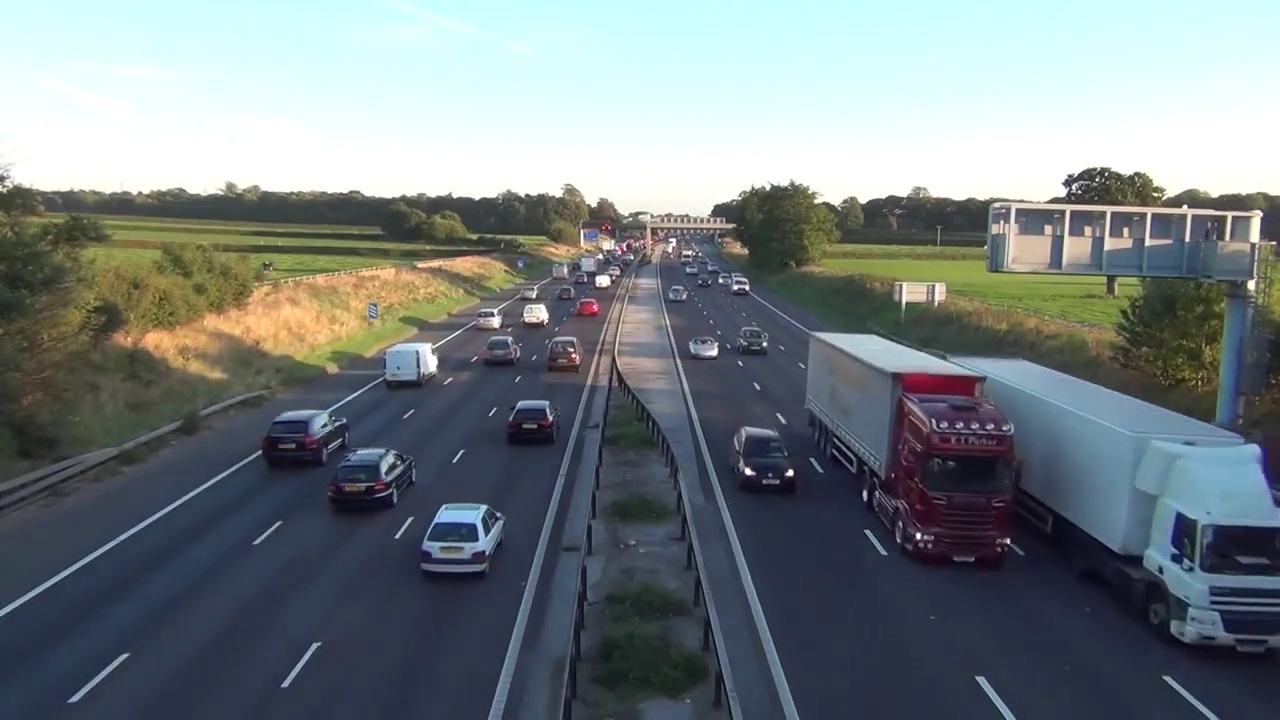bus: (420, 504, 505, 576), (327, 449, 417, 508), (263, 410, 349, 466), (729, 425, 797, 494), (507, 400, 560, 442), (480, 335, 522, 364), (548, 336, 582, 369), (737, 326, 769, 355), (688, 336, 719, 359), (476, 309, 503, 329), (576, 299, 598, 315), (668, 284, 687, 301), (518, 285, 540, 299), (559, 285, 575, 298), (697, 276, 712, 287)
car: (992, 358, 1280, 642), (803, 332, 1016, 568)
lorry: (385, 342, 439, 386), (521, 305, 550, 326), (729, 277, 751, 296)
